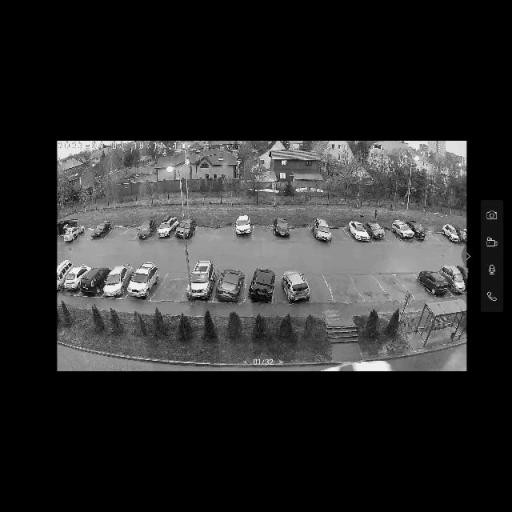busy: (123, 262, 165, 303), (244, 269, 282, 304), (65, 266, 106, 296), (212, 269, 247, 304), (282, 270, 316, 304), (98, 266, 132, 300), (418, 270, 454, 298), (58, 264, 89, 294), (391, 218, 425, 243), (309, 218, 337, 244), (229, 215, 259, 238), (153, 215, 181, 239), (344, 221, 374, 243), (84, 219, 114, 240), (447, 267, 468, 295), (59, 222, 85, 244), (362, 222, 390, 242), (170, 217, 194, 239), (135, 220, 159, 241), (438, 225, 464, 244), (270, 219, 294, 239)
free: (327, 274, 358, 304), (158, 273, 189, 300), (354, 275, 382, 301), (193, 219, 215, 245), (306, 276, 328, 302), (288, 223, 314, 244), (214, 222, 237, 244), (383, 277, 403, 299), (404, 278, 426, 298), (252, 223, 272, 241), (105, 224, 124, 242), (330, 226, 347, 244), (78, 224, 95, 242), (382, 226, 397, 244), (123, 225, 139, 241), (434, 227, 448, 245), (423, 227, 436, 245)
